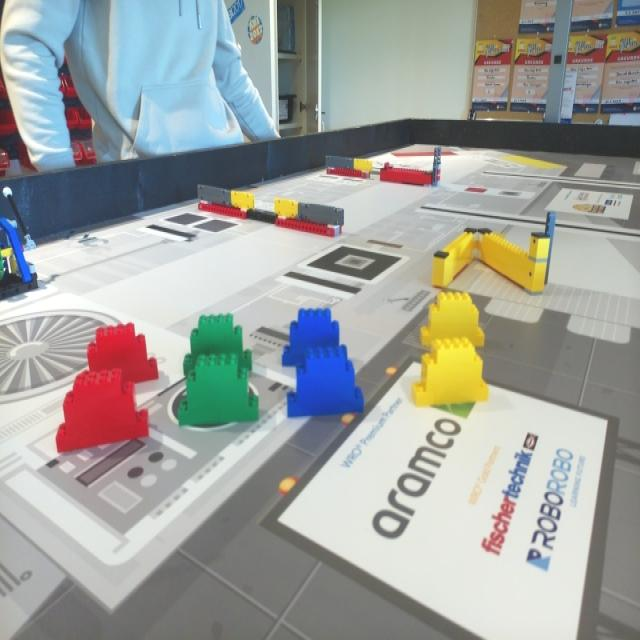blau: (289, 353, 365, 418), (290, 310, 340, 346)
gruen: (181, 358, 259, 427), (181, 314, 252, 364)
rot: (58, 370, 150, 450), (87, 323, 158, 382)
yellow: (415, 340, 489, 407), (421, 291, 486, 343)
